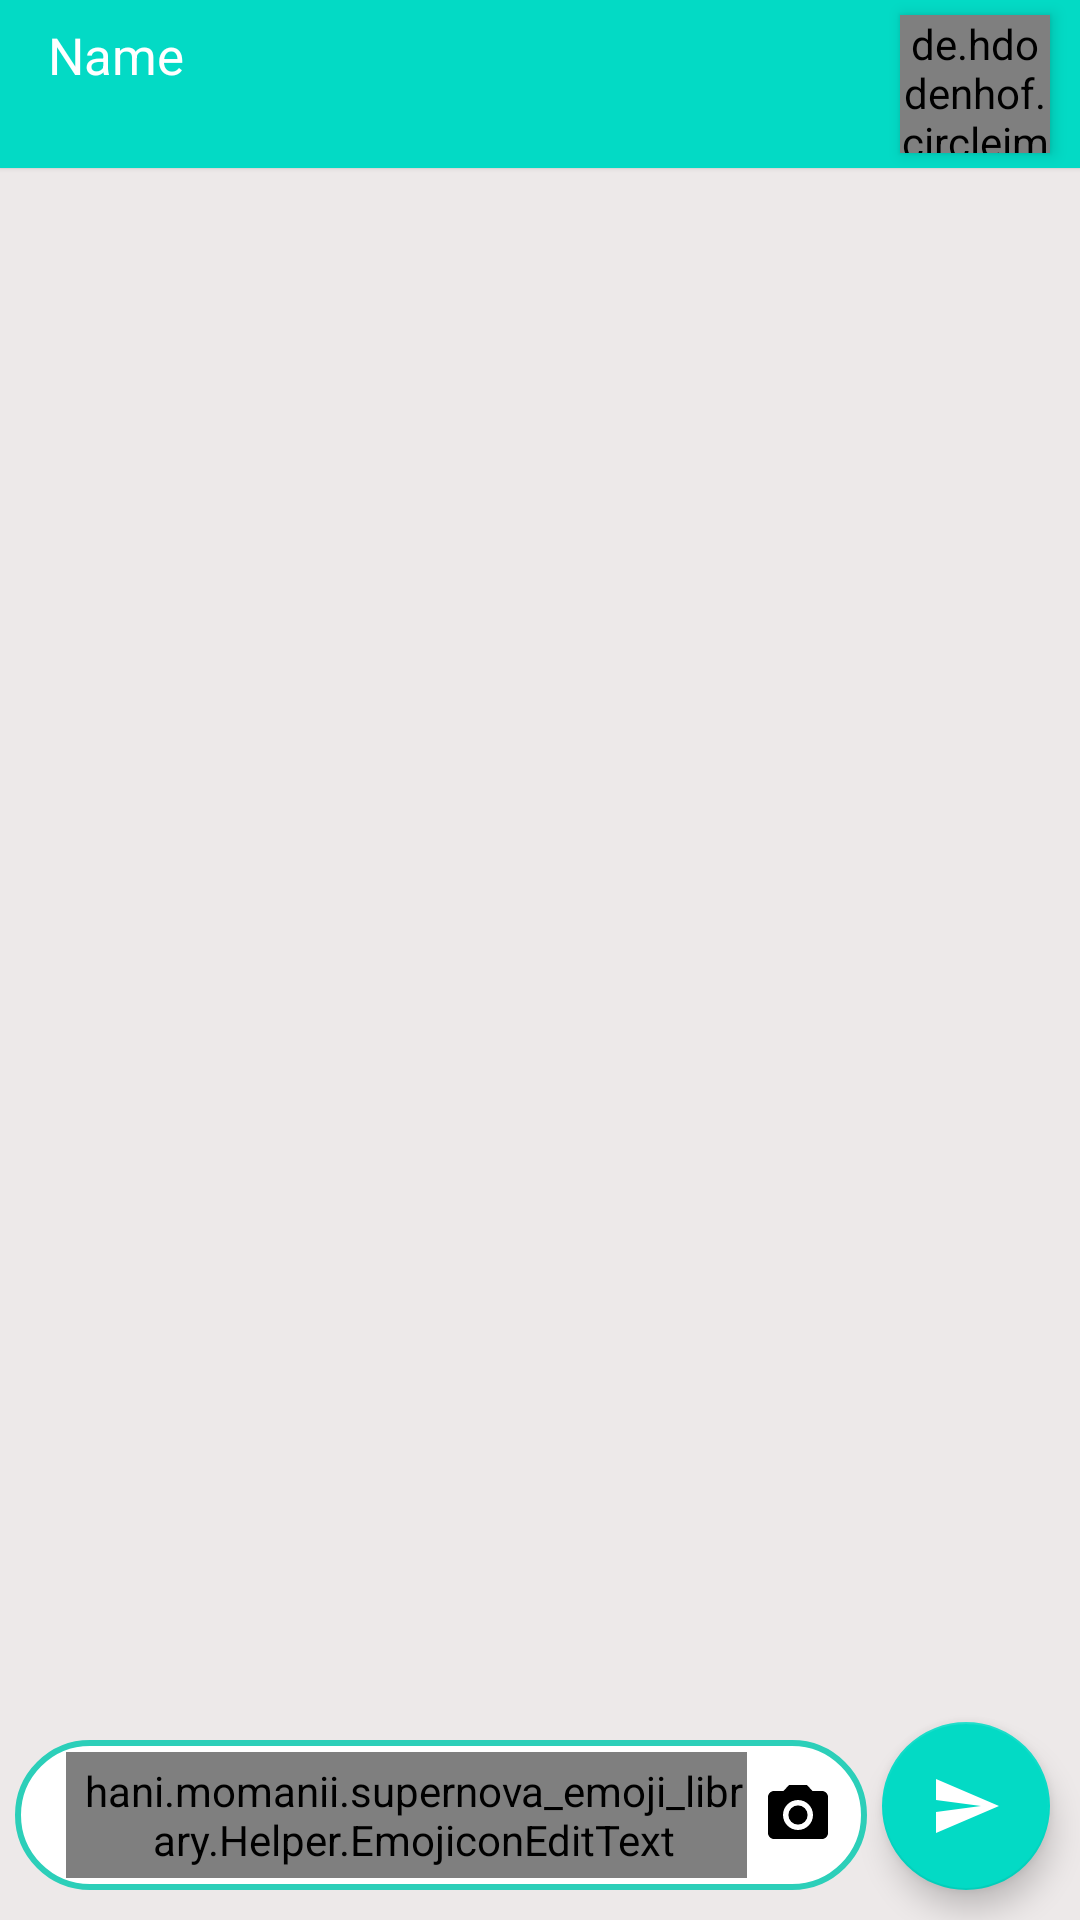

Icon click points for this 1080*1920 phone screenshot, format [x,y]:
photo camera: [798,1812]
send: [966,1806]
